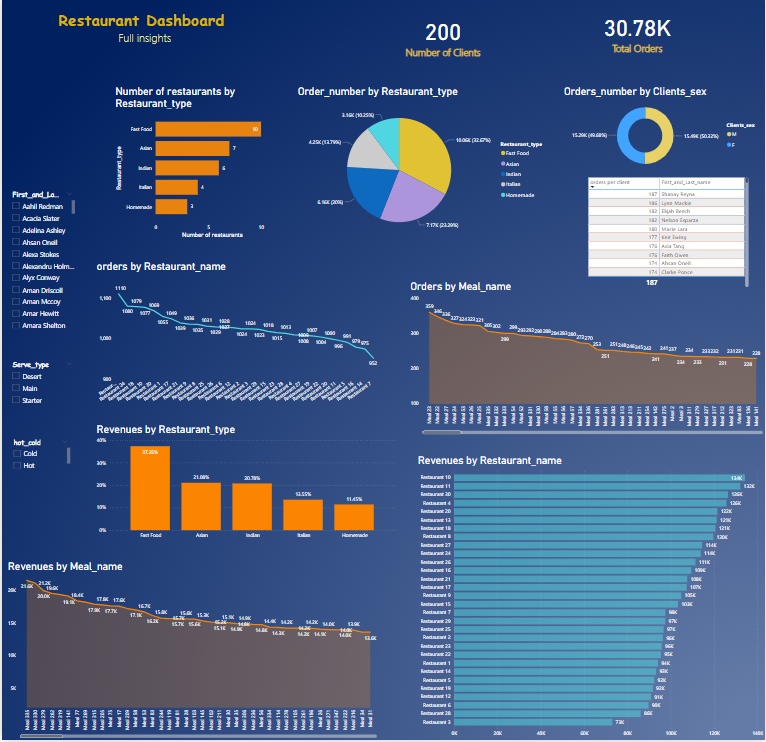

The page's visual inventory and layout, read from the dashboard file:
{"tool":"powerbi","page":{"name":"Page 1","canvas":[1850,1800],"ordinal":0},"visuals":[{"type":"donutChart","fields":{"Category":["analysis orders_report.Clients_sex"],"Y":["Count(analysis orders_report.Order_id)"]},"box":[1357.5,212.5,490,215],"z":0},{"type":"card","fields":{"Values":["Count(analysis orders_report.Order_id)"]},"box":[1413.9,19.4,250,127.8],"z":1000},{"type":"areaChart","fields":{"Category":["analysis orders_report.Meal_name"],"Y":["Count(analysis orders_report.Order_id)"]},"box":[985,685,865,377.5],"z":2000},{"type":"slicer","fields":{"Values":["analysis orders_report.hot_cold"]},"box":[15,1061.7,155,85],"z":3000},{"type":"slicer","fields":{"Values":["analysis orders_report.Serve_type"]},"box":[13.3,871.7,170,125],"z":4000},{"type":"pieChart","fields":{"Category":["analysis orders_report.Restaurant_type"],"Y":["Count(analysis orders_report.Order_id)"]},"box":[712.5,212.5,617.5,382.5],"z":5000},{"type":"lineChart","fields":{"Category":["analysis orders_report.Restaurant_name"],"Y":["Count(analysis orders_report.Order_id)"]},"box":[225,635,690,365],"z":6000},{"type":"slicer","fields":{"Values":["analysis orders_report.First_and_Last_name"]},"box":[13.3,461.7,170,345],"z":7000},{"type":"card","fields":{"Values":["Count(analysis orders_report.First_and_Last_name)"]},"box":[963.9,16.7,211.1,147.2],"z":8000},{"type":"clusteredBarChart","fields":{"Y":["Count(analysis orders_report.restaurant_id)"],"Category":["analysis orders_report.Restaurant_type"]},"box":[270,212.5,390,375],"z":9000},{"type":"tableEx","fields":{"Values":["analysis orders_report.Order_id max per First_and_Last_name","analysis orders_report.First_and_Last_name"]},"box":[1415,430,400,275],"z":10000},{"type":"columnChart","fields":{"Category":["analysis orders_report.Restaurant_type"],"Y":["Divide(Count(analysis orders_report.Price), ScopedEval(Count(analysis orders_report.Price), []))"]},"box":[225,1030,735,290],"z":11000},{"type":"areaChart","fields":{"Category":["analysis orders_report.Meal_name"],"Y":["Sum(analysis orders_report.Price)"]},"box":[10,1365,905,435],"z":12000},{"type":"barChart","fields":{"Category":["analysis orders_report.Restaurant_name"],"Y":["Sum(analysis orders_report.Price)"]},"box":[1002.5,1105,847.5,695],"z":13000},{"type":"textbox","box":[54,20,582,106],"z":13001}]}

Visuals, with their boxes in screenshot pixels (x1, y1, x2, y2), scaled from the page's 1850x1800 canvas onto the 766x742 screenshot:
donutChart - analysis orders_report.Clients_sex x Count(analysis orders_report.Order_id): 562 88 765 176
card - Count(analysis orders_report.Order_id): 585 8 689 61
areaChart - analysis orders_report.Meal_name x Count(analysis orders_report.Order_id): 408 282 765 438
slicer - analysis orders_report.hot_cold: 6 438 70 473
slicer - analysis orders_report.Serve_type: 6 359 76 411
pieChart - analysis orders_report.Restaurant_type x Count(analysis orders_report.Order_id): 295 88 551 245
lineChart - analysis orders_report.Restaurant_name x Count(analysis orders_report.Order_id): 93 262 379 412
slicer - analysis orders_report.First_and_Last_name: 6 190 76 333
card - Count(analysis orders_report.First_and_Last_name): 399 7 487 68
clusteredBarChart - Count(analysis orders_report.restaurant_id) x analysis orders_report.Restaurant_type: 112 88 273 242
tableEx - analysis orders_report.Order_id max per First_and_Last_name x analysis orders_report.First_and_Last_name: 586 177 752 291
columnChart - analysis orders_report.Restaurant_type x Divide(Count(analysis orders_report.Price), ScopedEval(Count(analysis orders_report.Price), [])): 93 425 397 544
areaChart - analysis orders_report.Meal_name x Sum(analysis orders_report.Price): 4 563 379 741
barChart - analysis orders_report.Restaurant_name x Sum(analysis orders_report.Price): 415 456 765 741
textbox: 22 8 263 52
